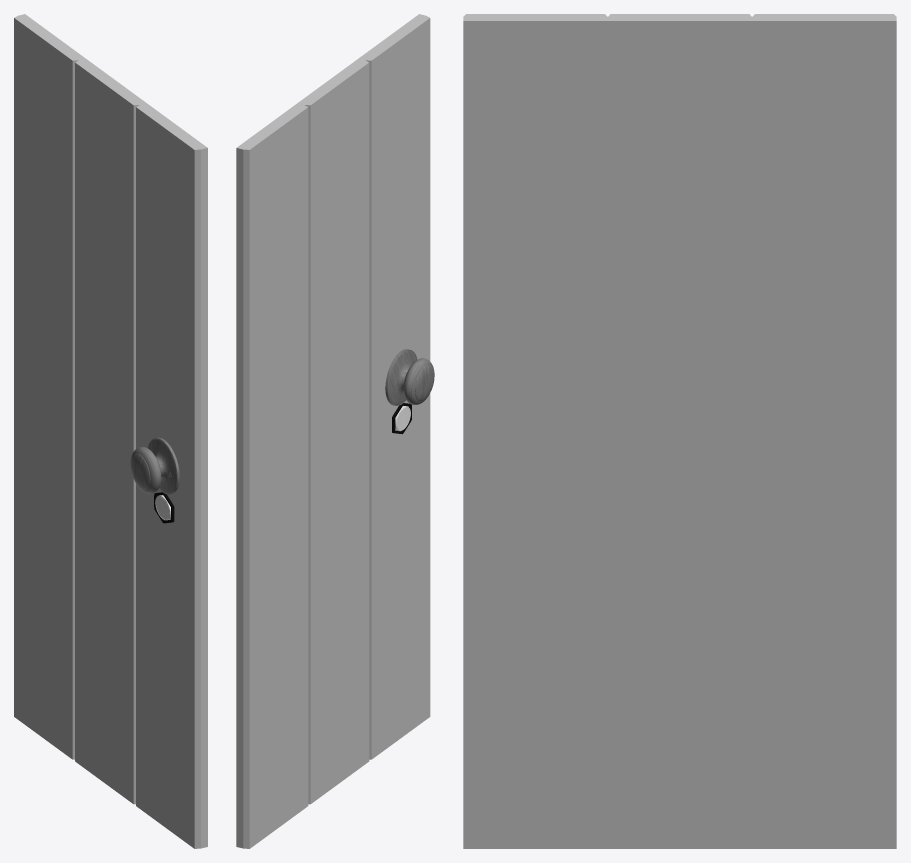
Rendered from Door.obj.
The picture shows the model from 3 angles, left to right: view 1: azimuth 30°, elevation 25°; view 2: azimuth 150°, elevation 25°; view 3: azimuth 270°, elevation 25°; orthographic projection. The views are drawn at different scales.
Size of the model in its own units: 0.146 by 2.53 by 1.2.
